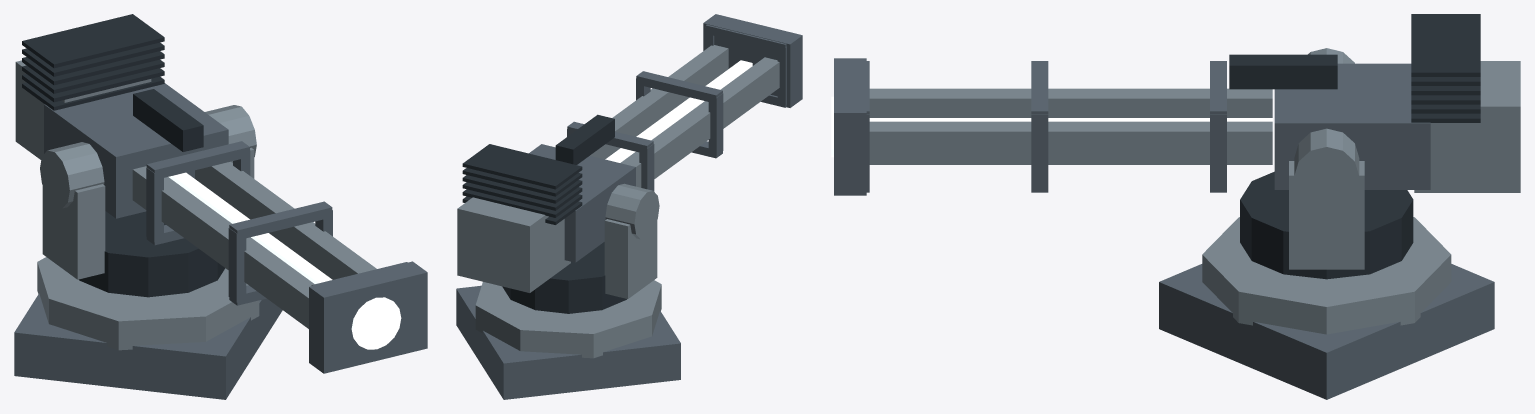
File: lancer_t2_d0.meshopt.glb
3 renders of one model, left to right at view 1: azimuth 30°, elevation 25°; view 2: azimuth 150°, elevation 25°; view 3: azimuth 270°, elevation 25°, orthographic. The views are drawn at different scales.
Visible parts, largest first — view 1: RECOIL_ARMOR_GEOMETRY, BASE_ARMOR_GEOMETRY, YAW_ARMOR_GEOMETRY, RECOIL_SIGNAL_GEOMETRY; view 2: RECOIL_ARMOR_GEOMETRY, BASE_ARMOR_GEOMETRY, YAW_ARMOR_GEOMETRY, RECOIL_SIGNAL_GEOMETRY; view 3: RECOIL_ARMOR_GEOMETRY, BASE_ARMOR_GEOMETRY, YAW_ARMOR_GEOMETRY, RECOIL_SIGNAL_GEOMETRY.
Boxes of the visible parts, x1,y1,x2,y2 form: RECOIL_ARMOR_GEOMETRY: [15, 14, 427, 373]; BASE_ARMOR_GEOMETRY: [14, 257, 282, 399]; YAW_ARMOR_GEOMETRY: [42, 147, 254, 297]; RECOIL_SIGNAL_GEOMETRY: [168, 172, 401, 349]; RECOIL_ARMOR_GEOMETRY: [457, 14, 802, 292]; BASE_ARMOR_GEOMETRY: [456, 280, 680, 399]; YAW_ARMOR_GEOMETRY: [502, 219, 657, 313]; RECOIL_SIGNAL_GEOMETRY: [605, 60, 752, 162]; RECOIL_ARMOR_GEOMETRY: [834, 14, 1520, 205]; BASE_ARMOR_GEOMETRY: [1159, 217, 1494, 399]; YAW_ARMOR_GEOMETRY: [1240, 161, 1413, 279]; RECOIL_SIGNAL_GEOMETRY: [831, 96, 1272, 157].
Size of the model in its own units: 1.55 by 1.46 by 3.18.
